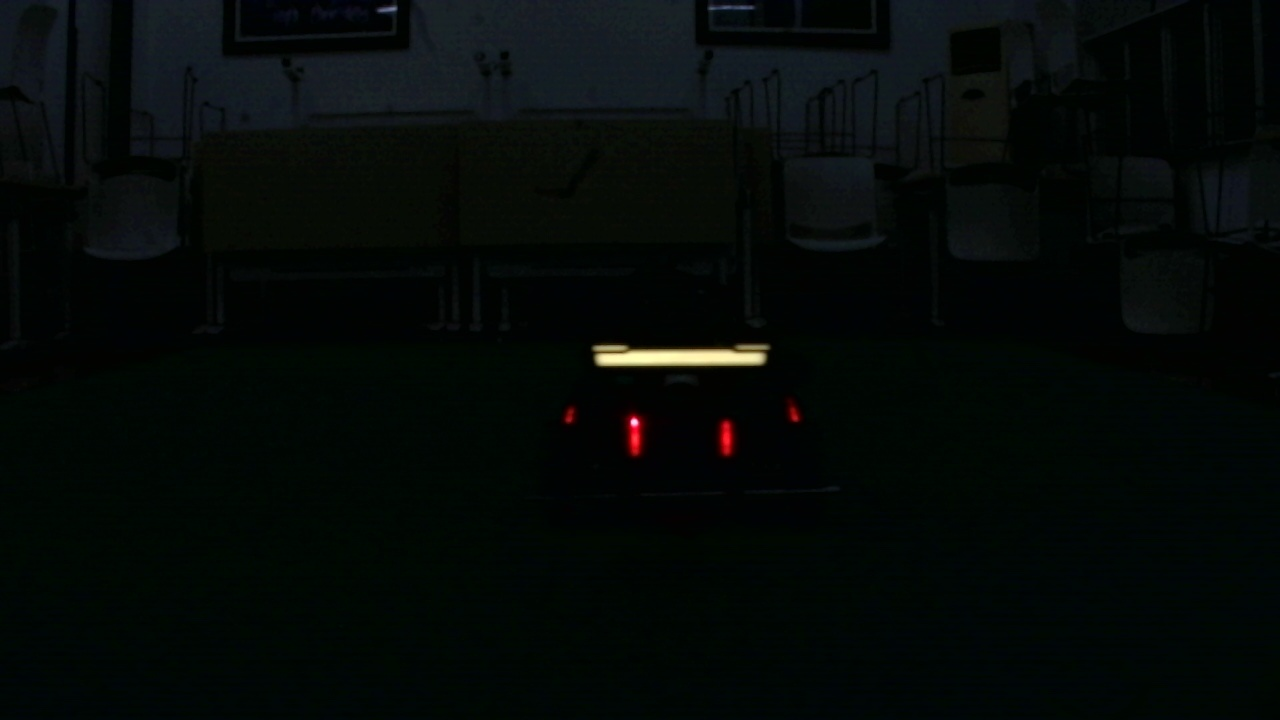lamp: (719, 418, 736, 459), (628, 412, 644, 455)
pair1: (627, 415, 733, 456)
